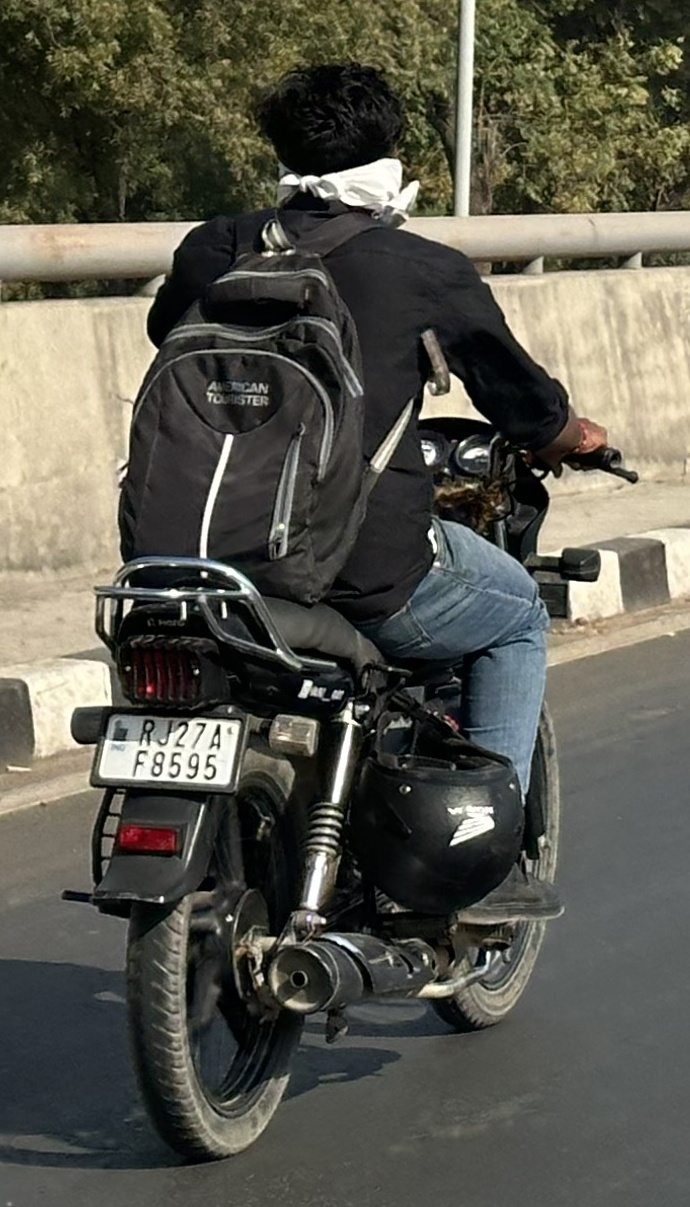BikeWithRider: (46, 43, 650, 1174)
NoHelmet: (231, 47, 434, 229)
